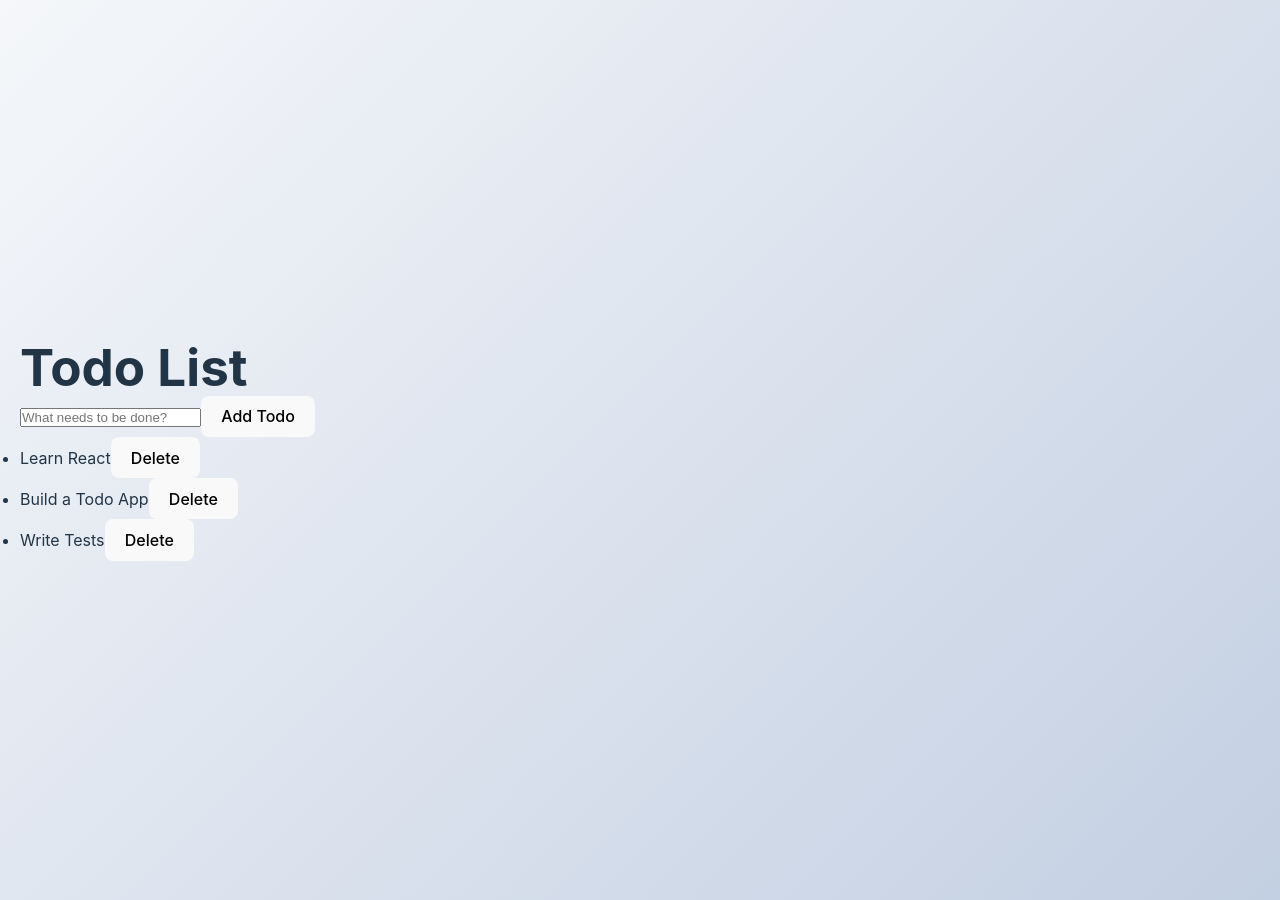
Test: adds a new todo when form is submitted
The width and height of the screenshot is (1280, 900).
Type "Test New Todo" into the field with placeholder "What needs to be done?" at [110, 418], box 20,408 -> 201,427
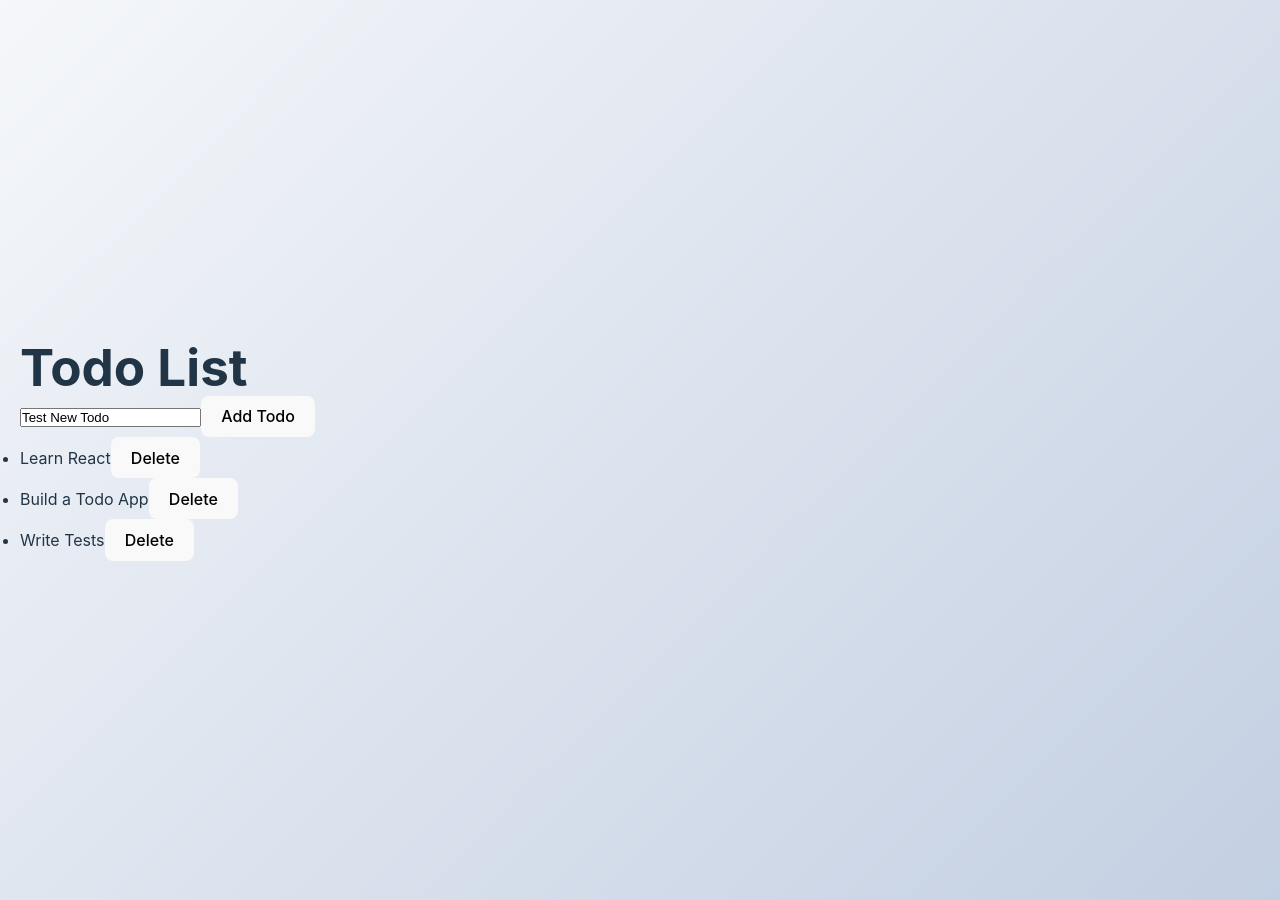
Click the button "Add Todo" at [258, 416], box 201,396 -> 315,437
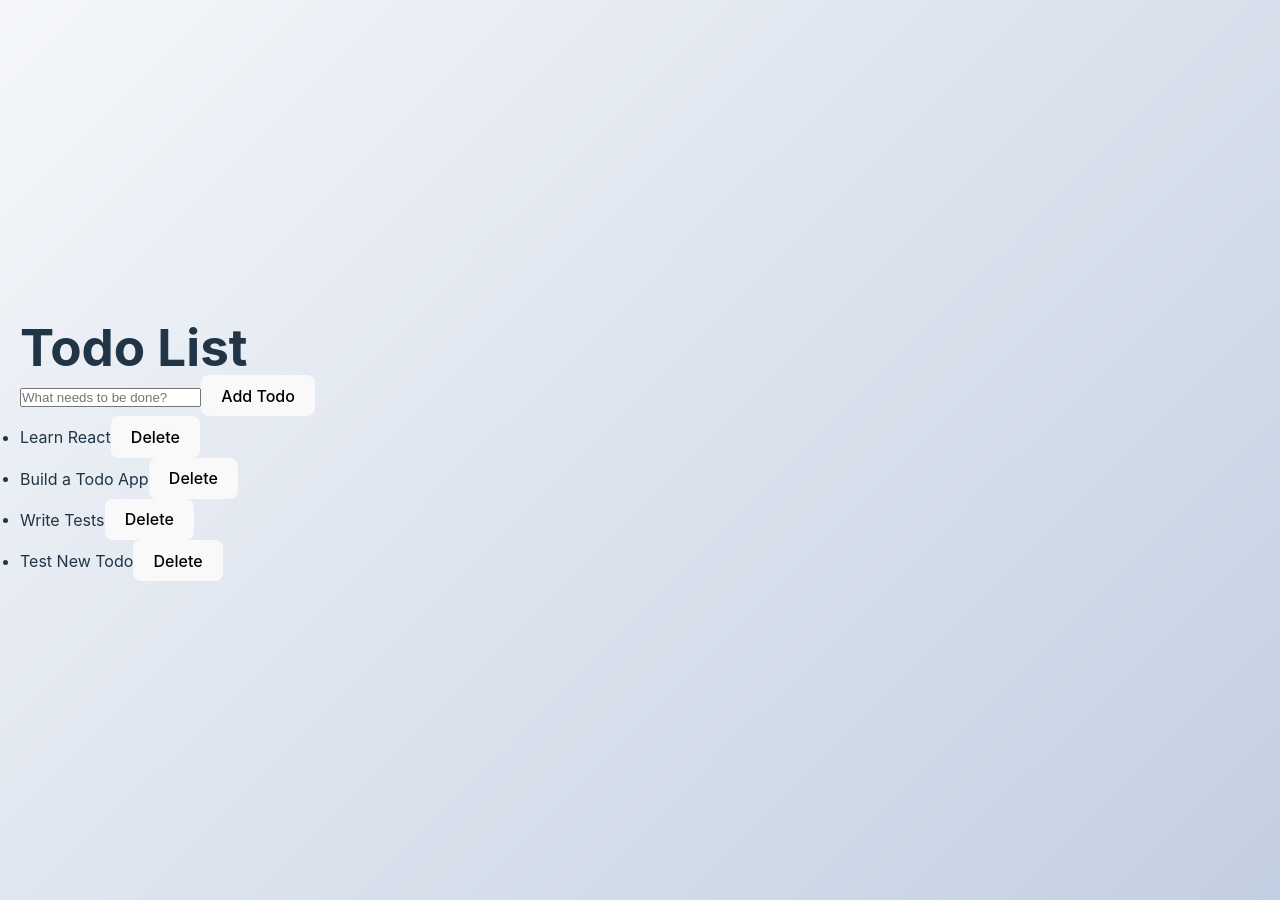
Check: the text "Test New Todo" is shown, box 20,550 -> 133,570
